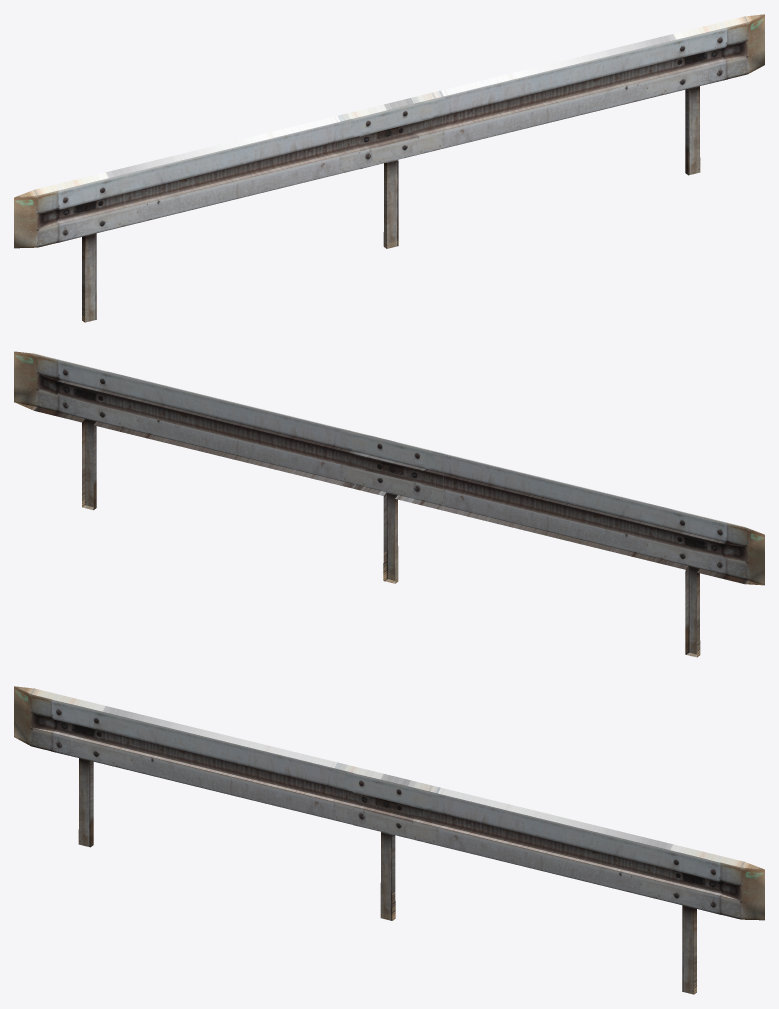
Rendered from guardrail1.obj.
3 views of the same model, one above another, from view 1: azimuth 30°, elevation 25°; view 2: azimuth 150°, elevation 25°; view 3: azimuth 330°, elevation 25° (orthographic).
Parts seen in each view (by area): view 1: left, middle; view 2: left, middle; view 3: left, middle.
Part boxes in pixels (box(x1,y1,x2,y2)): left: box(14, 14, 764, 322); middle: box(336, 90, 445, 248); left: box(14, 351, 764, 657); middle: box(336, 427, 445, 583); left: box(14, 686, 764, 994); middle: box(333, 762, 442, 920).
Bounding box in the file's own units: 4709 × 852 × 37.08.
